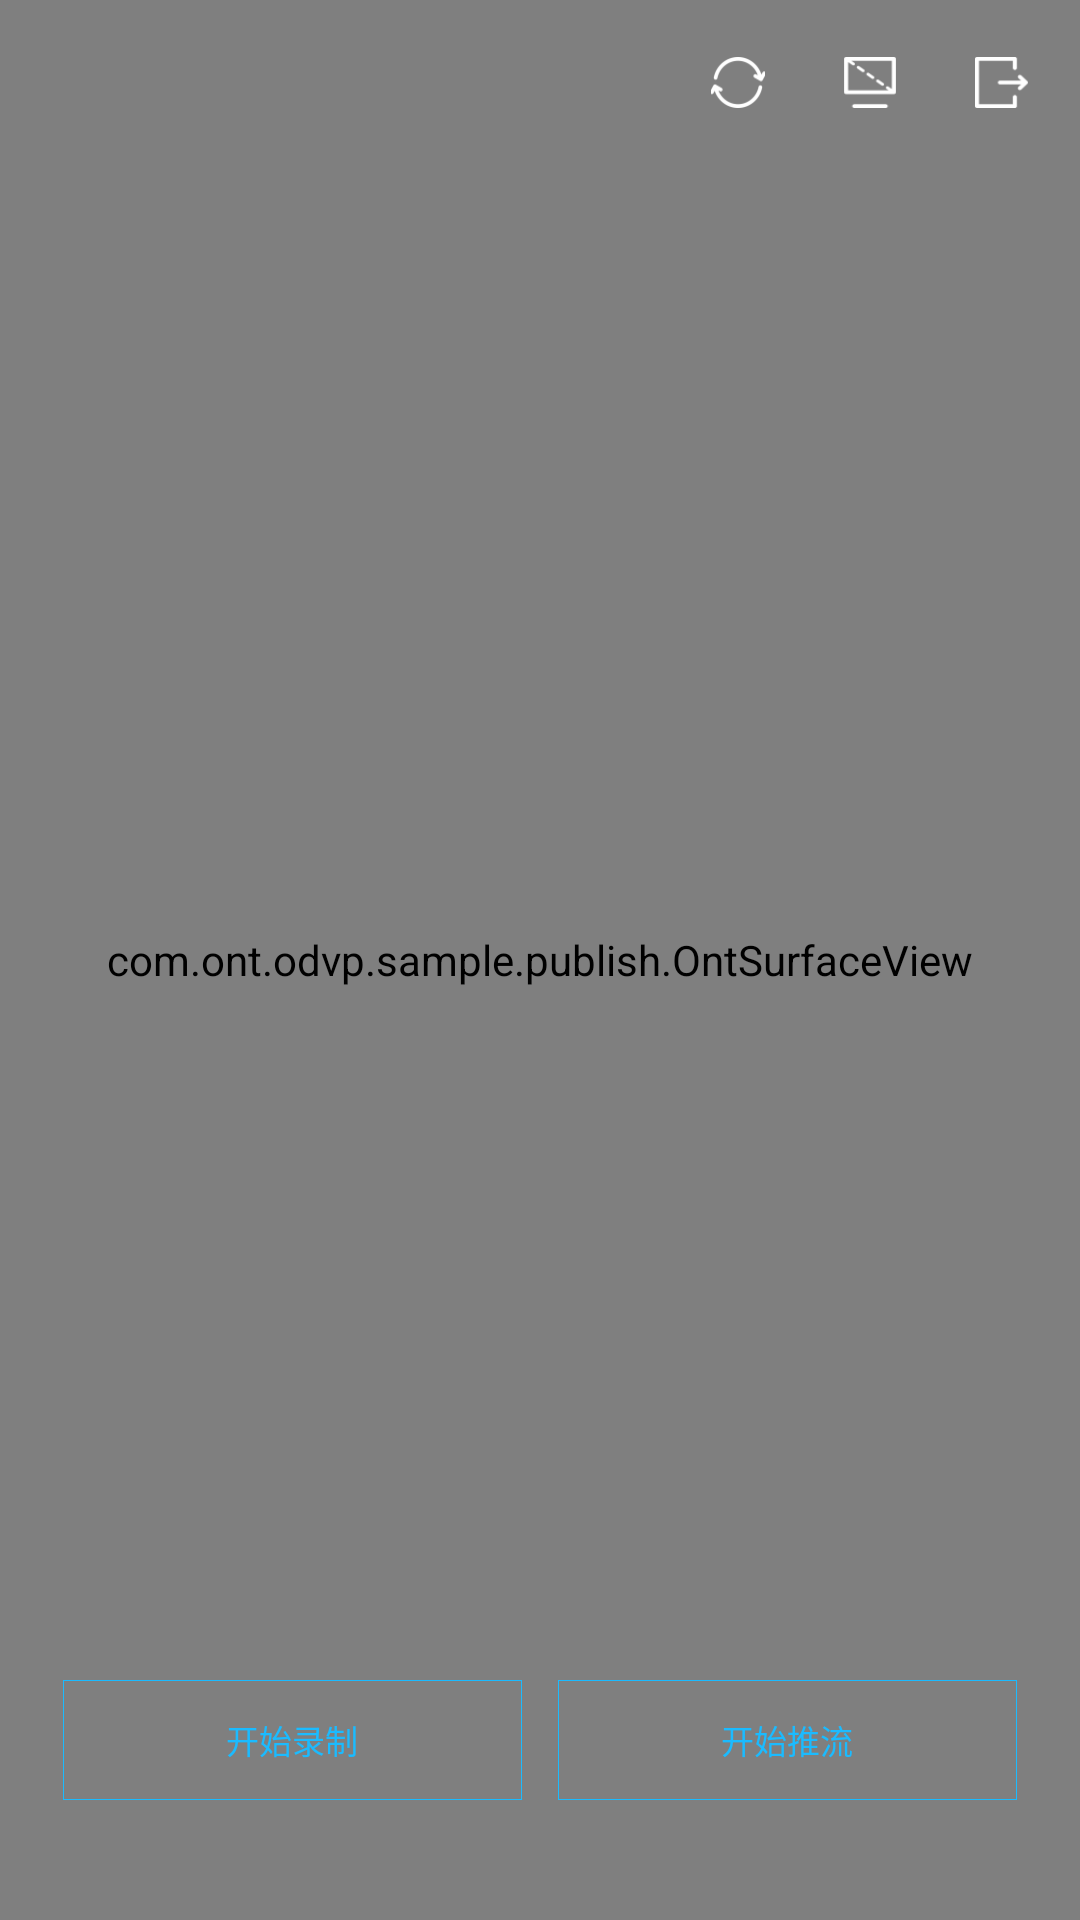

Screen size 1080 × 1920. Icon name, then its box in pixels as (x1, y1, x2, y2):
changecamera: (711, 57, 765, 108)
exit: (975, 57, 1028, 108)
resolution: (844, 57, 896, 108)
